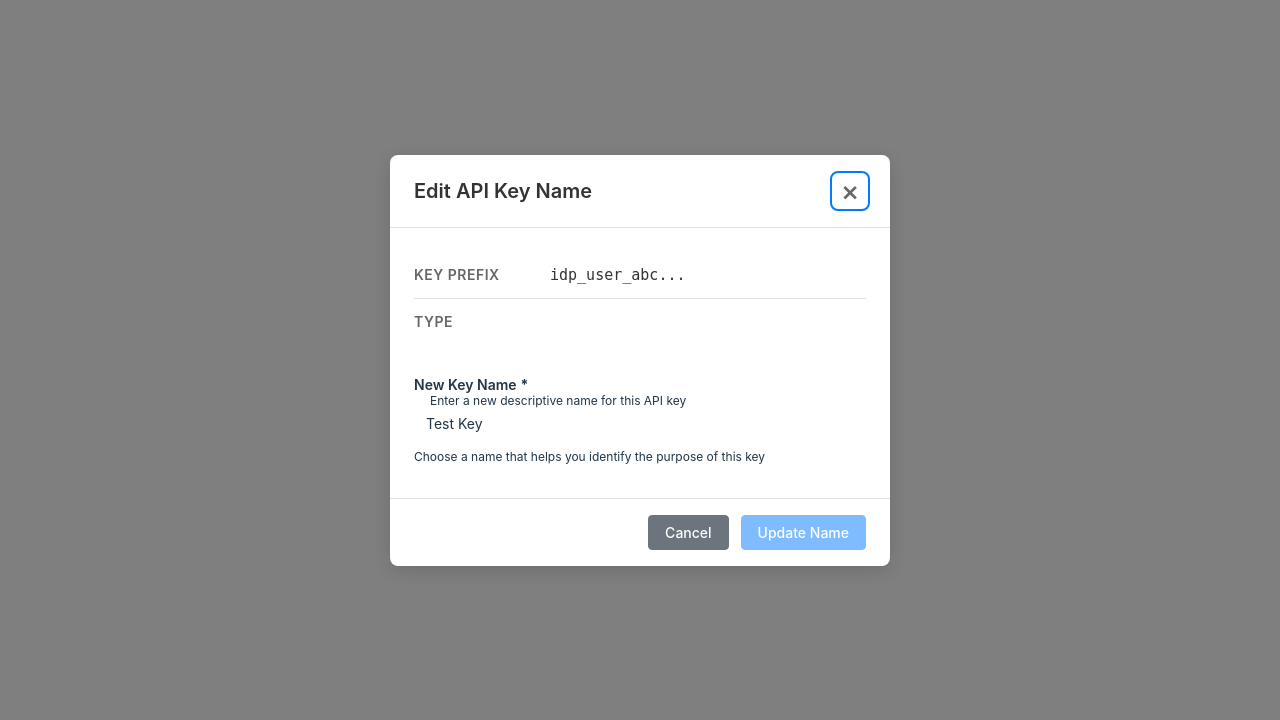
Test case: ApiKeyEditNameModal › displays error message on API failure
Replace the text in the field with "New Key Name" at (640, 421), box [414,400,866,442]
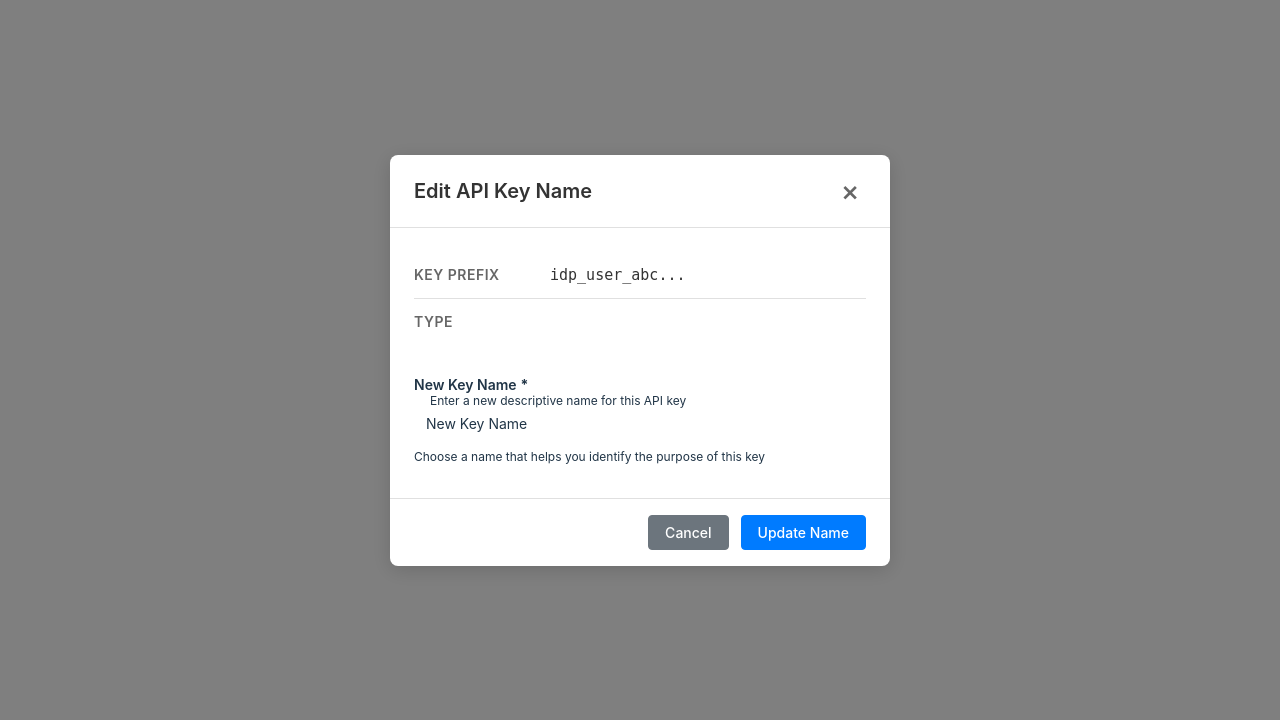
Click the button "Update Name" at (803, 532), box [741,514,866,550]
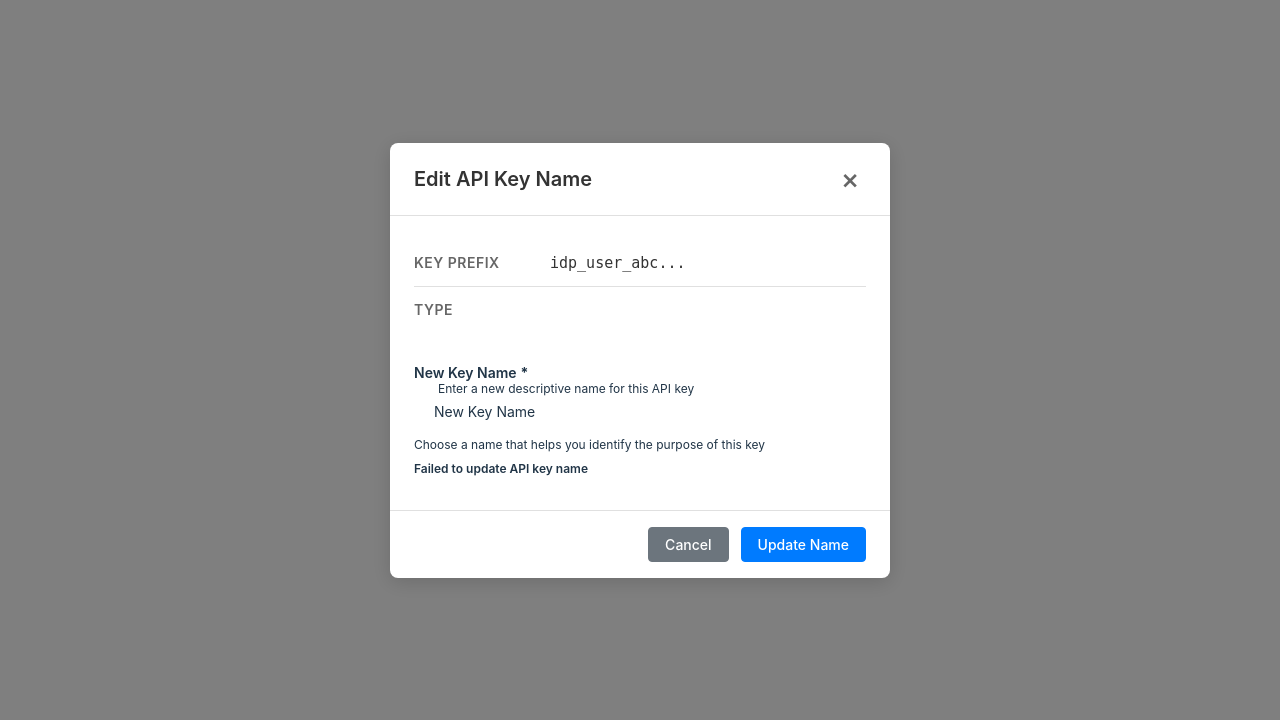
Result: the text "Failed to update API key name" is shown at [414,460,588,476]
